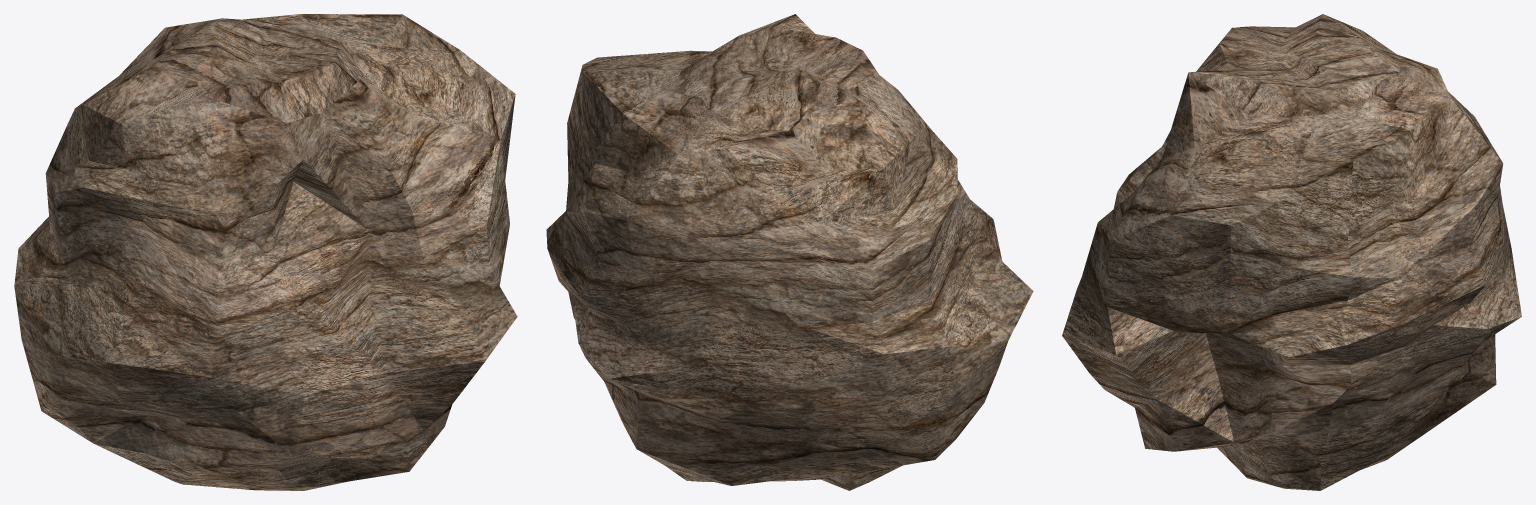
The model's file is RockLargeRound_LOD2.obj.
The picture shows the model from 3 angles, left to right: view 1: azimuth 30°, elevation 25°; view 2: azimuth 150°, elevation 25°; view 3: azimuth 270°, elevation 25°; orthographic projection. The views are drawn at different scales.
Visible parts, largest first — view 1: RockLargeRound_LOD2; view 2: RockLargeRound_LOD2; view 3: RockLargeRound_LOD2.
Boxes of the visible parts, <box> form: RockLargeRound_LOD2: <box>14,14,517,490</box>; RockLargeRound_LOD2: <box>546,14,1033,490</box>; RockLargeRound_LOD2: <box>1062,14,1521,490</box>.
Bounding box in the file's own units: 5.33 × 4.78 × 5.05.
